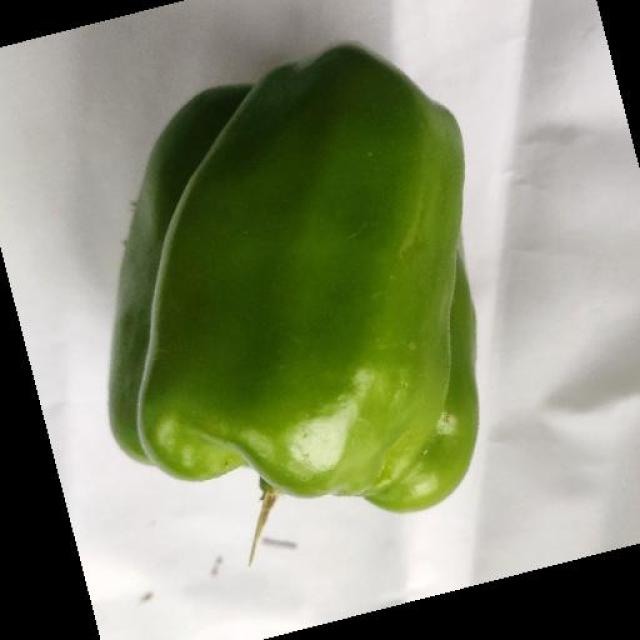Fresh_Capsicum: (123, 101, 494, 510)
